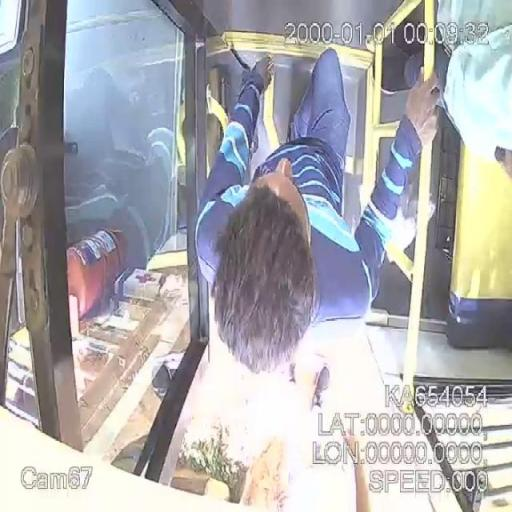persona: (193, 45, 443, 374)
